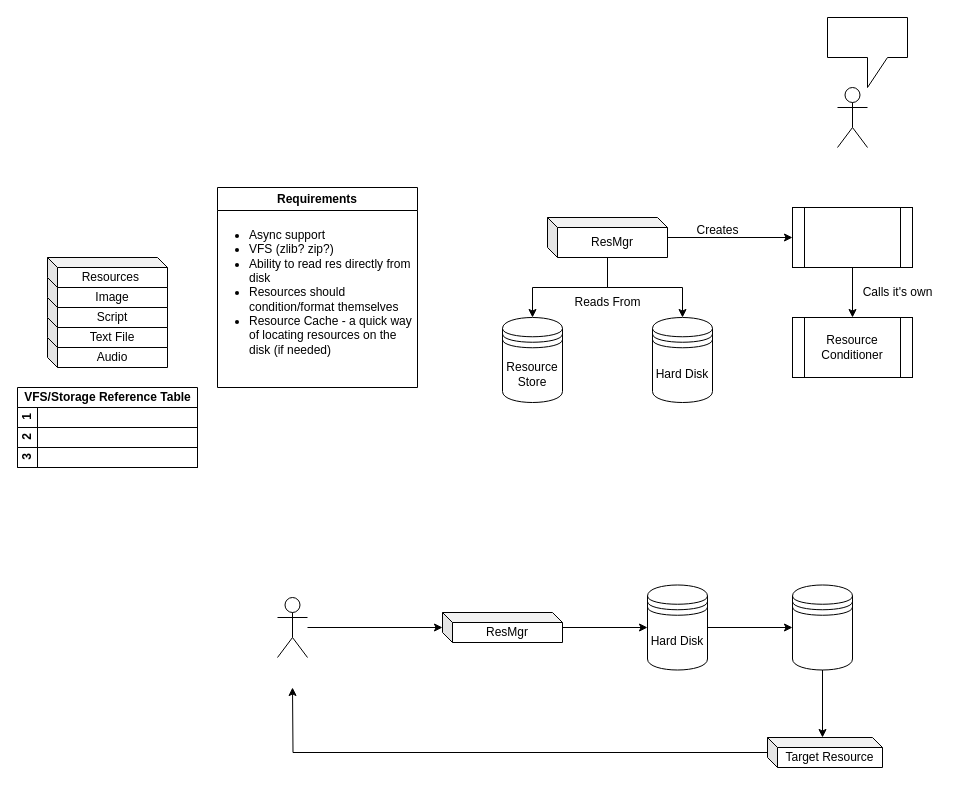
The diagram is 960 pixels wide and 785 high, and some of its shapes have lost their labels. The shapes that lost their labels are listed below. From the top down, each one's centre as x and y in pixels, then its label:
(x=867, y=52): Hi
(x=852, y=117): John Resource
(x=852, y=237): Resource Type
(x=292, y=627): Wetware Instance
(x=822, y=627): Resource Pool
